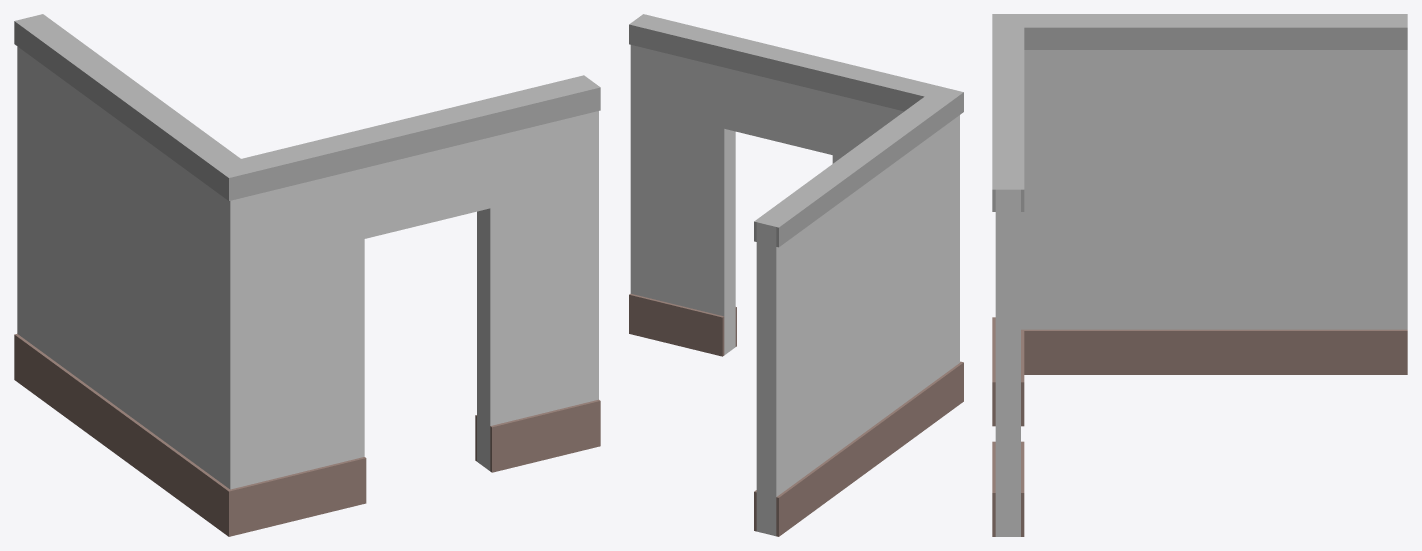
The model's file is Wall02-01.fbx.
3 renders of one model, left to right at view 1: azimuth 30°, elevation 25°; view 2: azimuth 150°, elevation 25°; view 3: azimuth 270°, elevation 25°, orthographic. The views are drawn at different scales.
Parts seen in each view (by area): view 1: Wall02-01; view 2: Wall02-01; view 3: Wall02-01.
Boxes of the visible parts, x1=… form: Wall02-01: x1=14, y1=14, x2=600, y2=536; Wall02-01: x1=629, y1=14, x2=963, y2=536; Wall02-01: x1=992, y1=14, x2=1407, y2=536.
Size of the model in its own units: 3.25 by 3.25 by 3.
